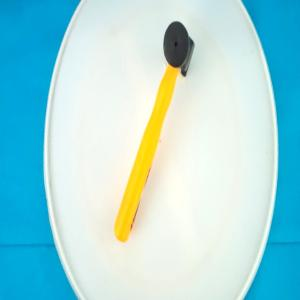martelo: (114, 21, 195, 244)
